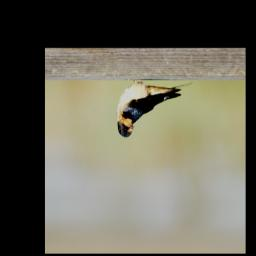Swallow: (116, 76, 194, 138)
